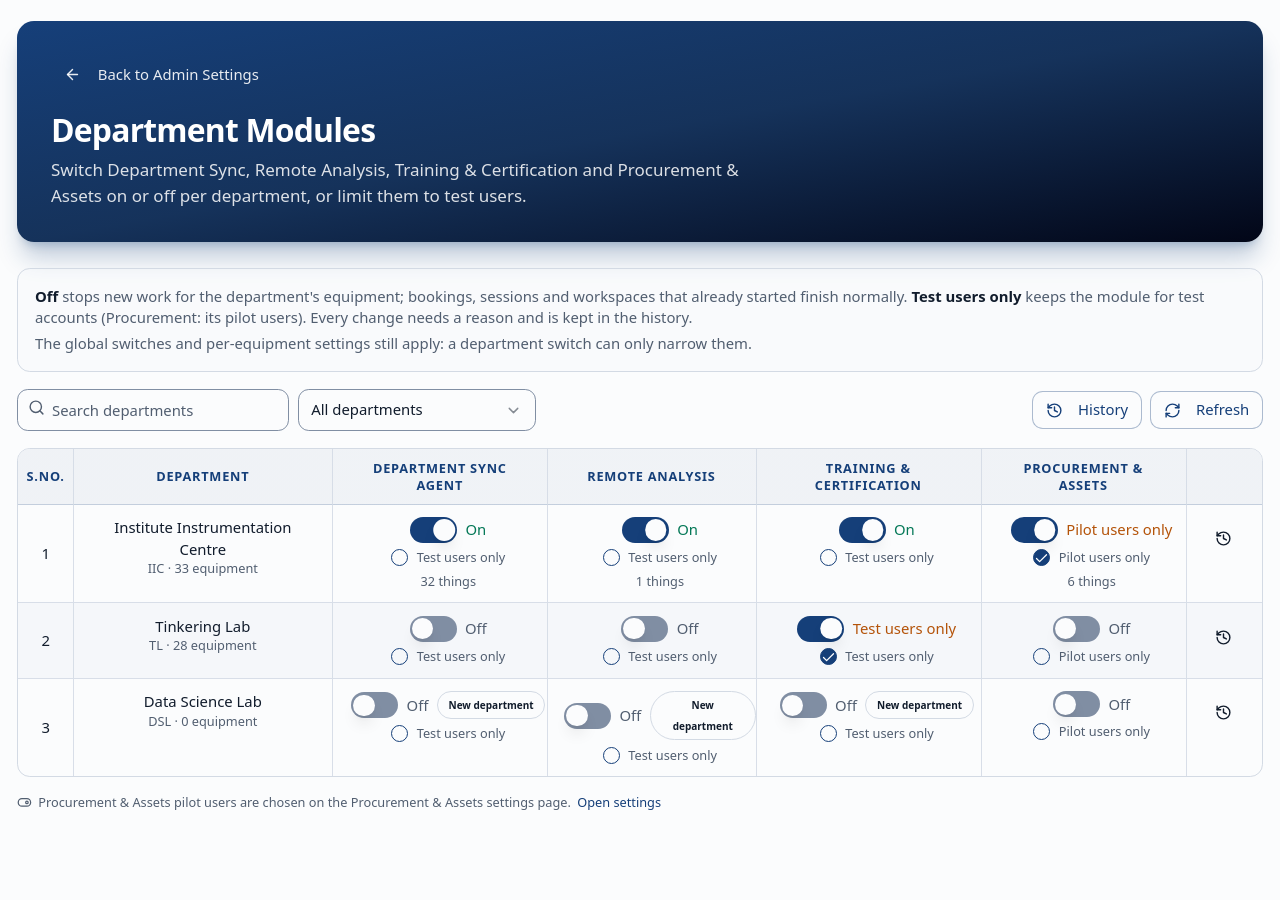
it: Department Modules (Main Administrator) › shows a department's history
The width and height of the screenshot is (1280, 900).
Click the button named "History for Tinkering Lab": (1224, 637) [1202,616,1245,658]
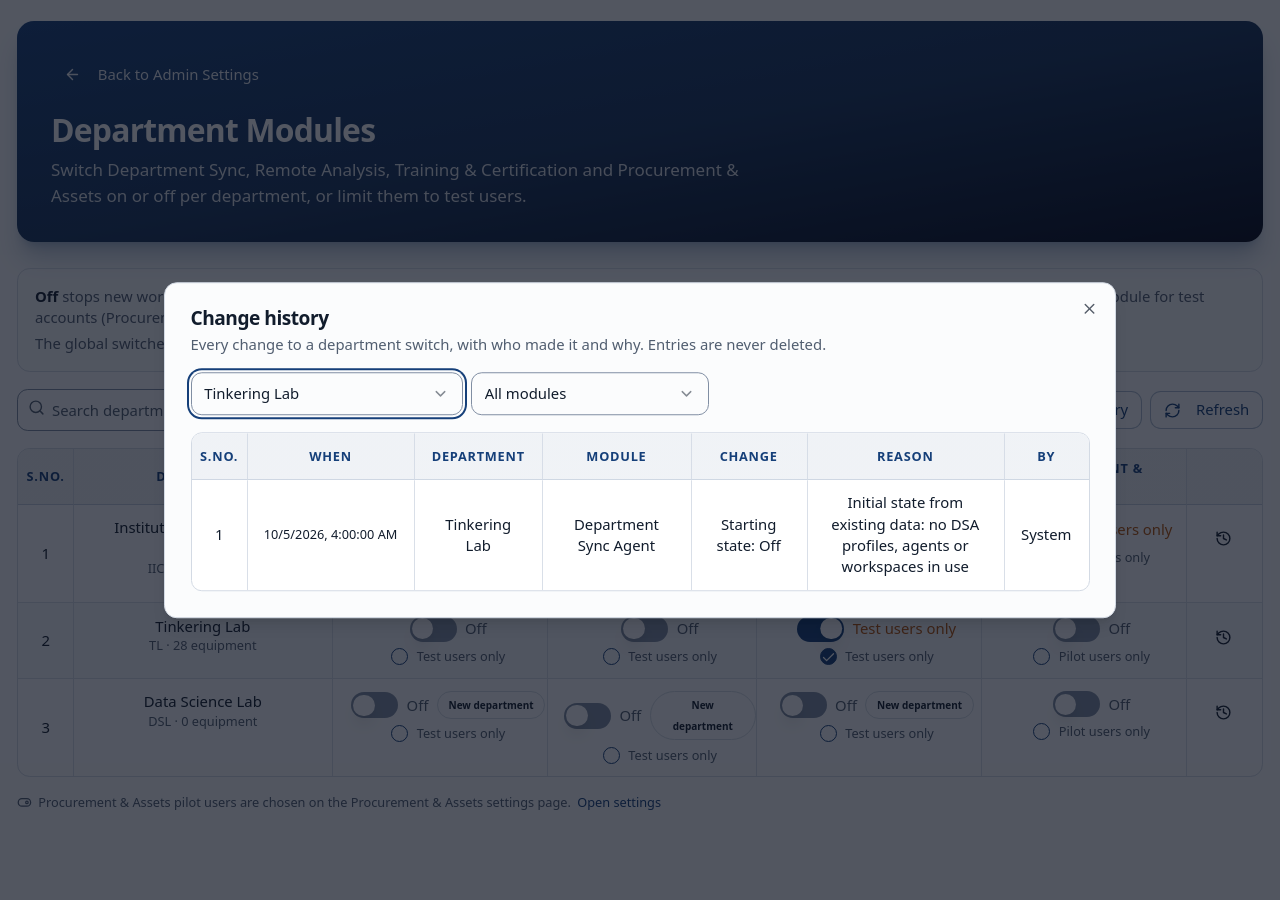
Expected: the text "Starting state: Off" is shown, [691,480,806,590]
Expected: the text "System" is shown, [1004,480,1088,590]
